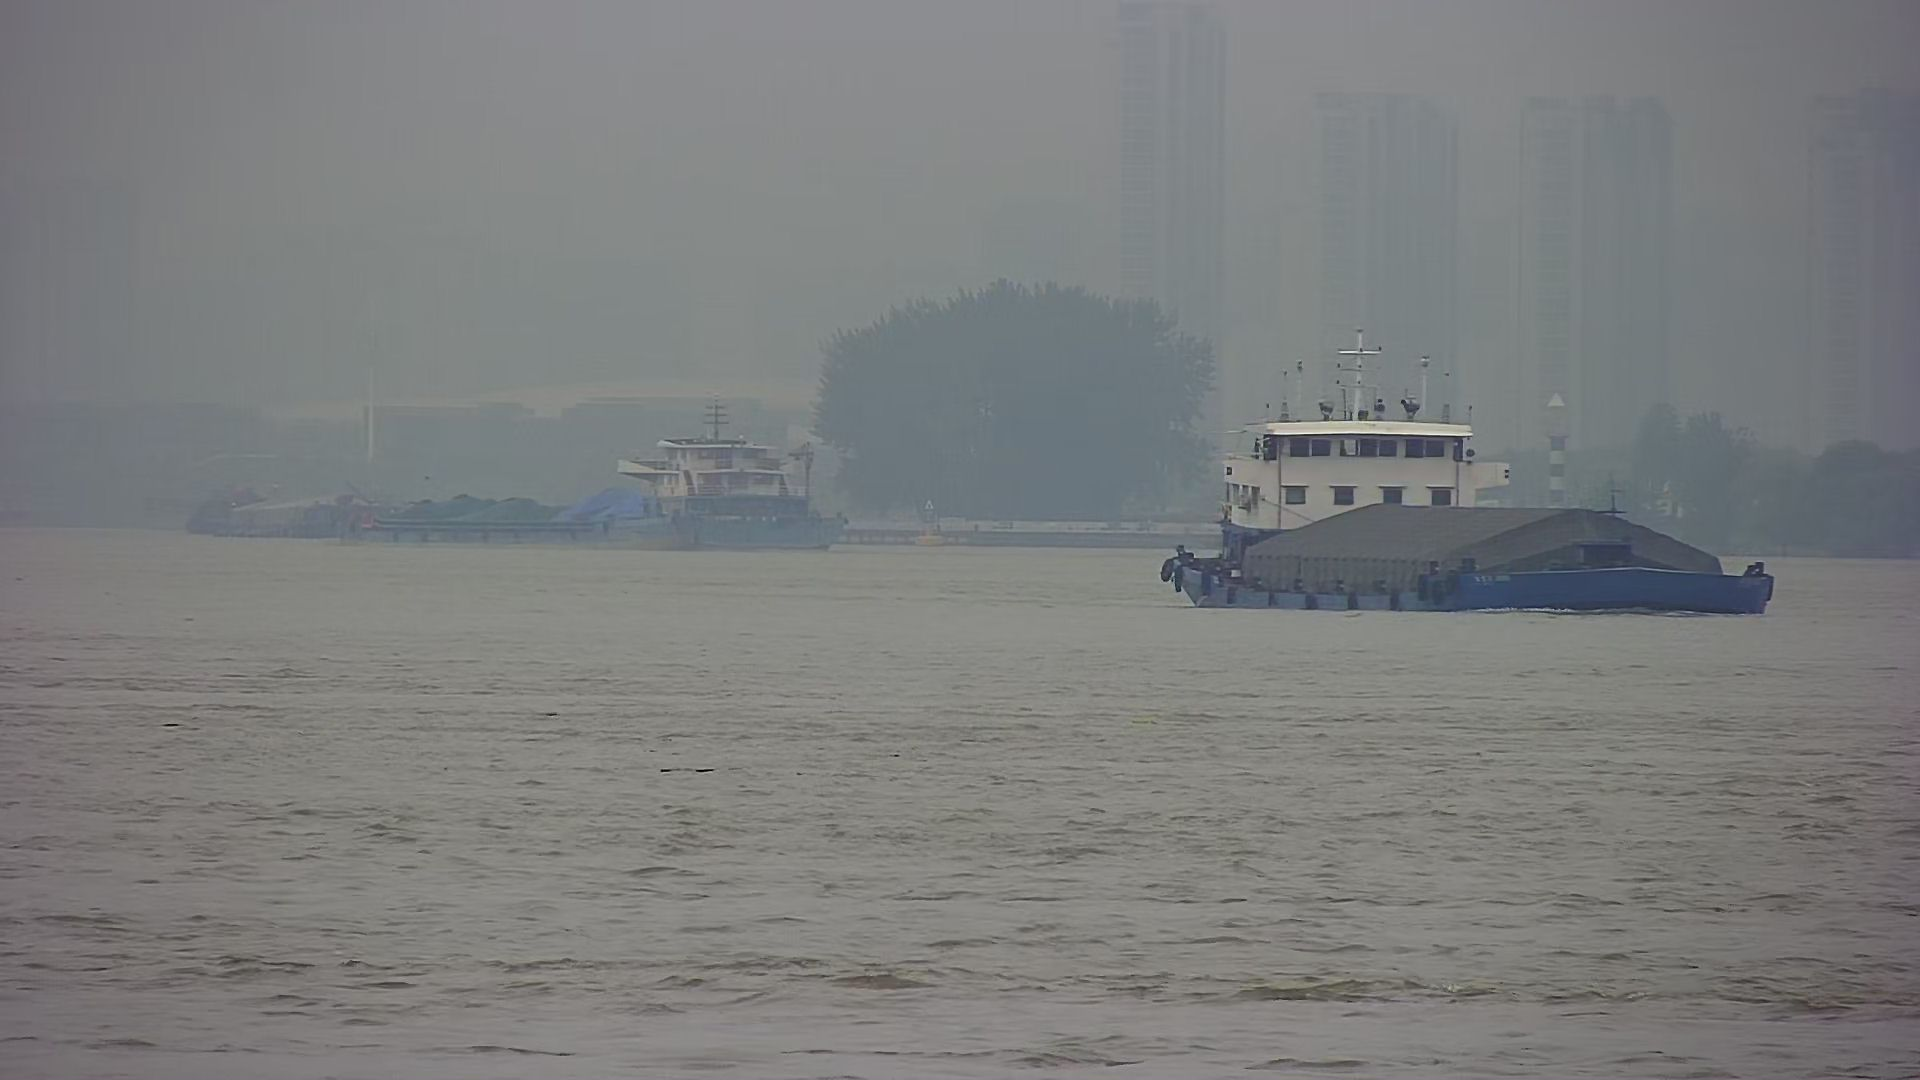ship: (1139, 375, 1801, 632), (344, 400, 872, 546)
